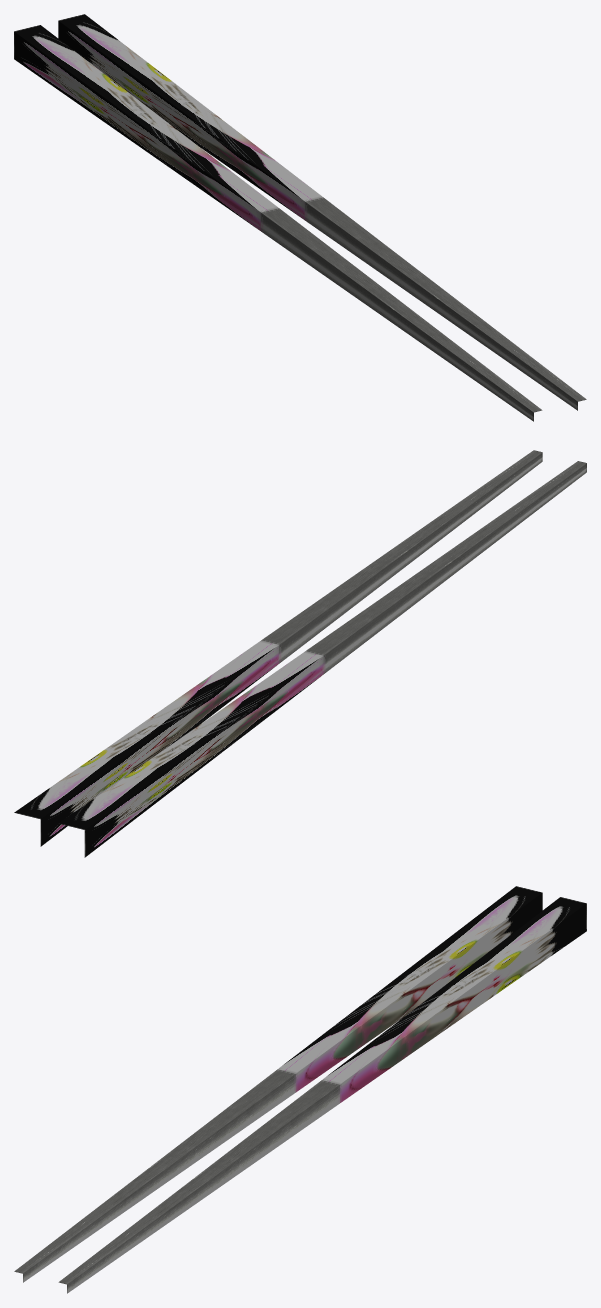
File: square_chopstick_pair.glb
3 views of the same model, one above another, from view 1: azimuth 30°, elevation 25°; view 2: azimuth 150°, elevation 25°; view 3: azimuth 330°, elevation 25° (orthographic).
Parts seen in each view (by area): view 1: square_chopstick_left, square_chopstick_right; view 2: square_chopstick_left, square_chopstick_right; view 3: square_chopstick_right, square_chopstick_left.
Part boxes in pixels (x1,y1,x2,y2): square_chopstick_left: (14, 25, 542, 421); square_chopstick_right: (58, 14, 586, 410); square_chopstick_left: (58, 461, 586, 857); square_chopstick_right: (14, 450, 542, 846); square_chopstick_right: (58, 897, 586, 1293); square_chopstick_left: (14, 886, 542, 1282).
Bounding box in the file's own units: 1.6 × 0.6 × 20.
1 material, 1 textured.
